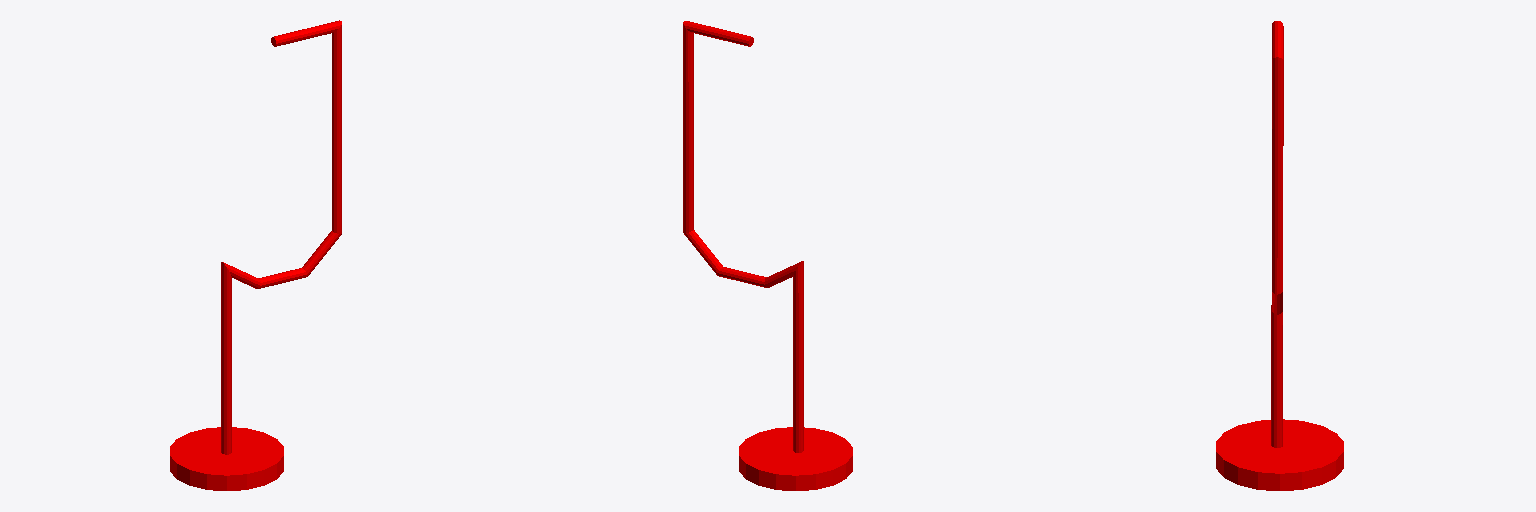
robot.urdf — ring:
<?xml version="0.0" ?>
<robot name="ring">
    <material name="white">
        <color rgba="1 0 0 1"/>
    </material>

    <link name="baseLink">
        <!-- from lego/lego.urdf -->
        <contact>
            <lateral_friction value="1.0"/>
            <rolling_friction value="0.0"/>
            <contact_cfm value="0.0"/>
            <contact_erp value="1.0"/>
        </contact>
        <inertial>
            <origin rpy="0 0 0" xyz="0 0 0"/>
            <mass value="0.01"/>
            <inertia ixx="1" ixy="0" ixz="0" iyy="1" iyz="0" izz="1"/>
        </inertial>
        <visual>
            <origin rpy="1.57 0 0" xyz="0 0 0"/>
            <geometry>
                <!--        radius: 10mm, depth: 14.5mm-->
                <mesh filename="meshes/j.obj" scale="1 1 1"/>
                <!--        <box size="0.002 0.002 0.002"/>-->
            </geometry>
            <material name="white"/>
        </visual>
        <collision>
            <origin rpy="1.57 0 0" xyz="0 0 0"/>
            <geometry>
                <mesh filename="meshes/j_vhacd.obj" scale="1 1 1"/>
                       <!-- <box size="2 2 2"/> -->
            </geometry>
        </collision>
    </link>
</robot>

--- Facts derived from the render (not from the file) ---
3 views of the same robot in one strip: view 1: azimuth 30°, elevation 25°; view 2: azimuth 150°, elevation 25°; view 3: azimuth 270°, elevation 25° (orthographic).
Model ring with 1 links and 0 joints (none), rooted at baseLink, posed all joints at 0.
Visible links, largest first — view 1: baseLink; view 2: baseLink; view 3: baseLink.
Link boxes in pixels (x1,y1,x2,y2): baseLink: (170,20,341,490); baseLink: (683,21,852,490); baseLink: (1216,21,1343,490).
Bounding box of the posed robot: 0.0512 × 0.031 × 0.1255 m (x, y, z).
Meshes: 1 distinct files referenced, 1 mesh visuals loaded (1 OBJ).